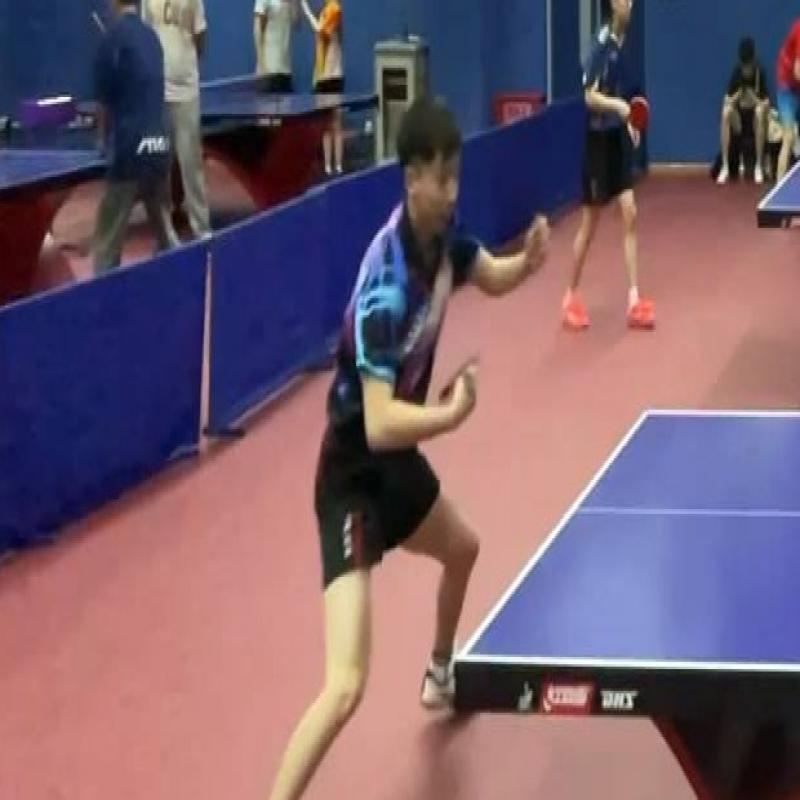bats: (431, 349, 495, 417)
